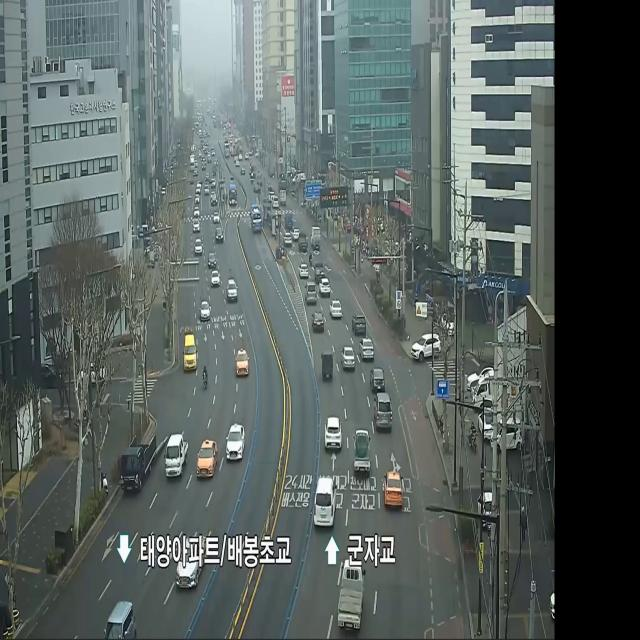bus: (202, 362, 210, 393)
car: (250, 202, 263, 236), (228, 182, 238, 208)
motorcycle: (176, 532, 205, 590), (313, 472, 337, 533), (106, 597, 137, 640), (196, 438, 218, 481), (226, 420, 244, 462), (374, 392, 392, 432), (324, 414, 342, 454), (183, 331, 198, 373), (234, 344, 250, 380), (341, 343, 356, 373), (359, 335, 375, 363), (304, 280, 318, 307), (370, 364, 384, 391), (352, 309, 366, 336), (226, 277, 237, 304), (330, 296, 342, 320), (311, 310, 324, 332), (200, 300, 211, 323), (319, 276, 331, 297), (211, 268, 220, 288), (298, 262, 308, 279), (194, 237, 203, 255), (283, 230, 292, 248), (191, 217, 200, 233), (208, 251, 216, 268), (216, 224, 223, 243), (212, 209, 220, 223), (193, 207, 201, 218)
truck: (118, 430, 157, 494), (337, 556, 364, 634), (164, 428, 188, 482), (353, 426, 372, 475), (321, 346, 334, 381), (310, 224, 322, 251), (298, 233, 309, 254), (280, 188, 286, 206)
